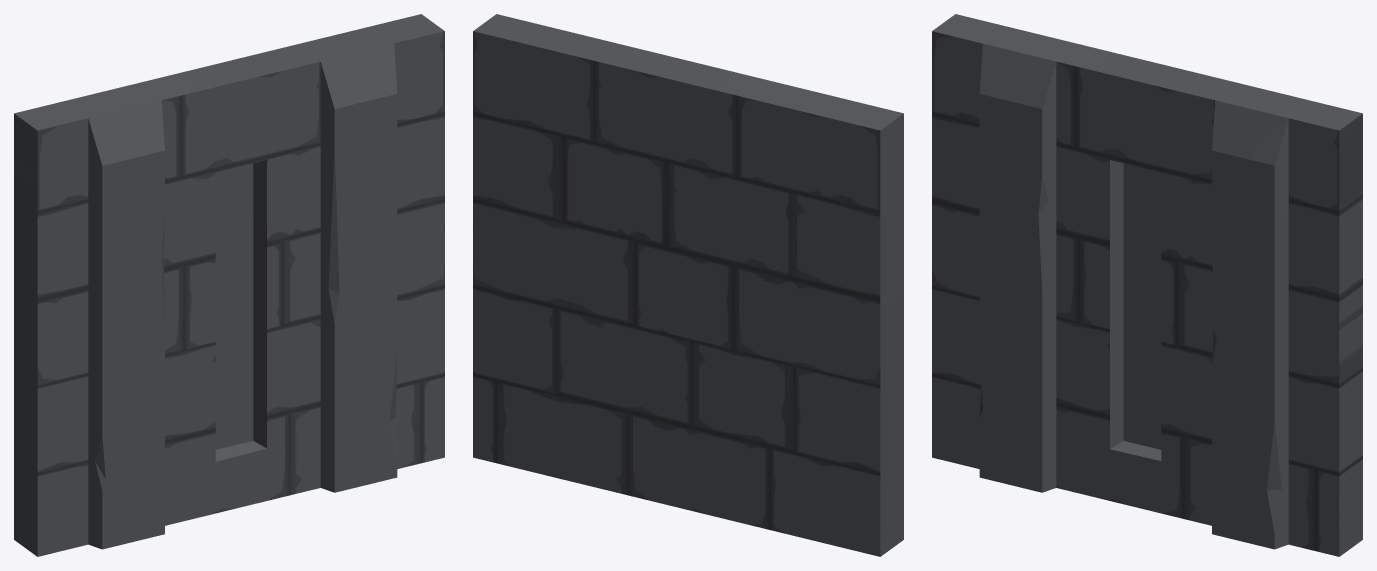
The model's file is castle_wall_c.gltf.
3 renders of one model, left to right at view 1: azimuth 30°, elevation 25°; view 2: azimuth 150°, elevation 25°; view 3: azimuth 330°, elevation 25°, orthographic.
Parts seen in each view (by area): view 1: castle_wall_c; view 2: castle_wall_c; view 3: castle_wall_c.
Boxes of the visible parts, left/top/right/bottom form: castle_wall_c: left=14, top=14, right=444, bottom=556; castle_wall_c: left=473, top=14, right=903, bottom=556; castle_wall_c: left=932, top=14, right=1362, bottom=556.
Size of the model in its own units: 5 by 5 by 0.6818.
Materials: 1 (1 with a texture image).
